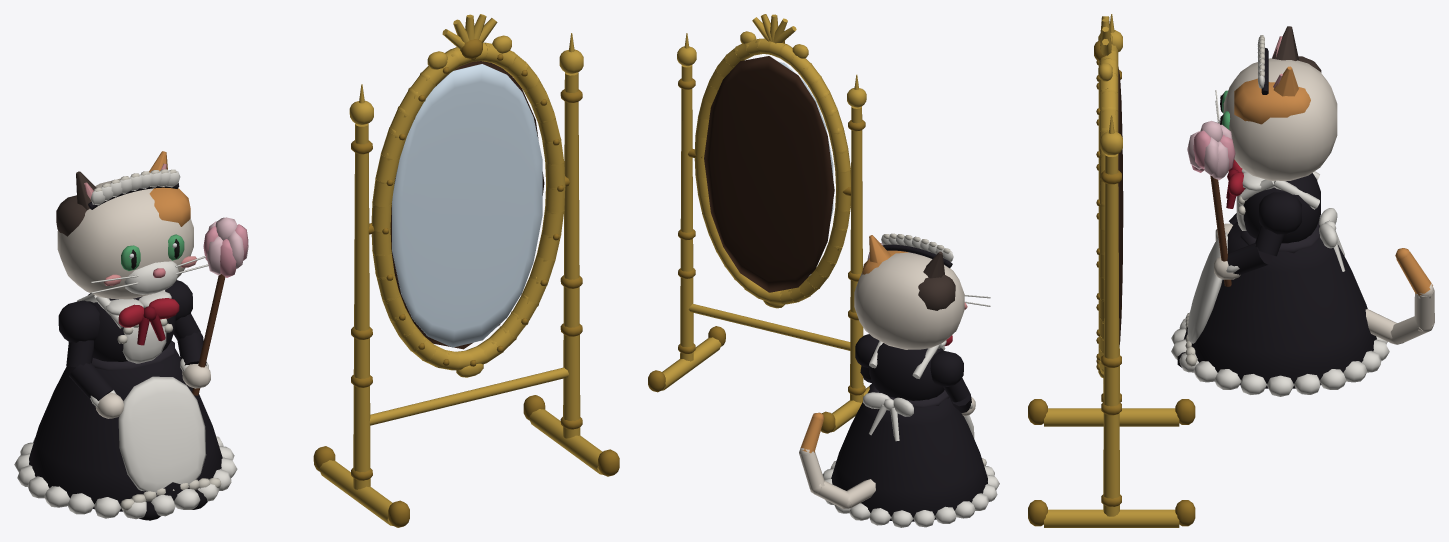
File: chloe_maid.glb
3 renders of one model, left to right at view 1: azimuth 30°, elevation 25°; view 2: azimuth 150°, elevation 25°; view 3: azimuth 270°, elevation 25°, orthographic. The views are drawn at different scales.
Visible parts, largest first — view 1: Mirror_Frame, Mirror_Glass, Chloe_Body, Chloe_Head, Chloe_ArmL, Chloe_ArmR; view 2: Mirror_Frame, Chloe_Body, Chloe_Head, Chloe_Tail, Chloe_ArmR, Chloe_ArmL; view 3: Chloe_Body, Mirror_Frame, Chloe_Head, Chloe_ArmL, Chloe_Tail.
Boxes of the visible parts, <box> form: Mirror_Frame: <box>313,14,619,527</box>; Mirror_Glass: <box>392,64,542,347</box>; Chloe_Body: <box>14,290,237,520</box>; Chloe_Head: <box>56,151,208,299</box>; Chloe_ArmL: <box>165,217,248,395</box>; Chloe_ArmR: <box>58,300,123,418</box>; Mirror_Frame: <box>648,14,869,433</box>; Chloe_Body: <box>822,335,999,527</box>; Chloe_Head: <box>854,233,990,349</box>; Chloe_Tail: <box>799,412,875,508</box>; Chloe_ArmR: <box>930,351,975,416</box>; Chloe_ArmL: <box>855,242,882,383</box>; Chloe_Body: <box>1171,159,1389,396</box>; Mirror_Frame: <box>1028,14,1195,527</box>; Chloe_Head: <box>1215,26,1337,180</box>; Chloe_ArmL: <box>1187,121,1301,286</box>; Chloe_Tail: <box>1365,248,1434,344</box>.
Bounding box in the file's own units: 1.74 × 1.66 × 1.33.
